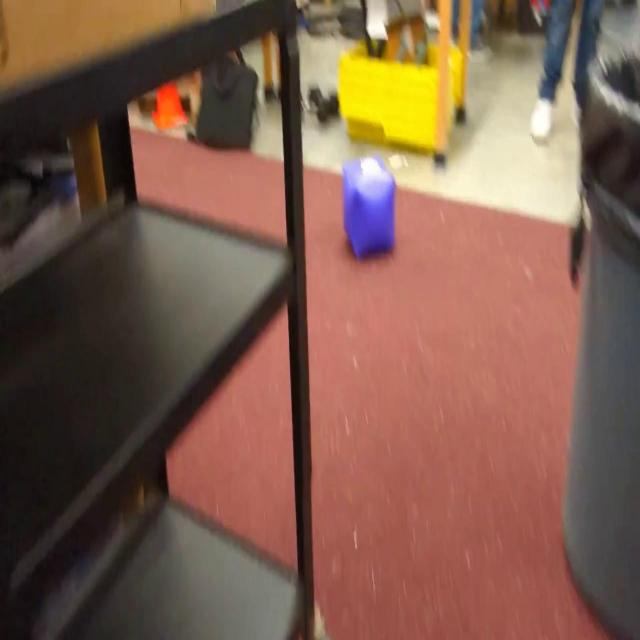frc_cube: (341, 154, 397, 260)
